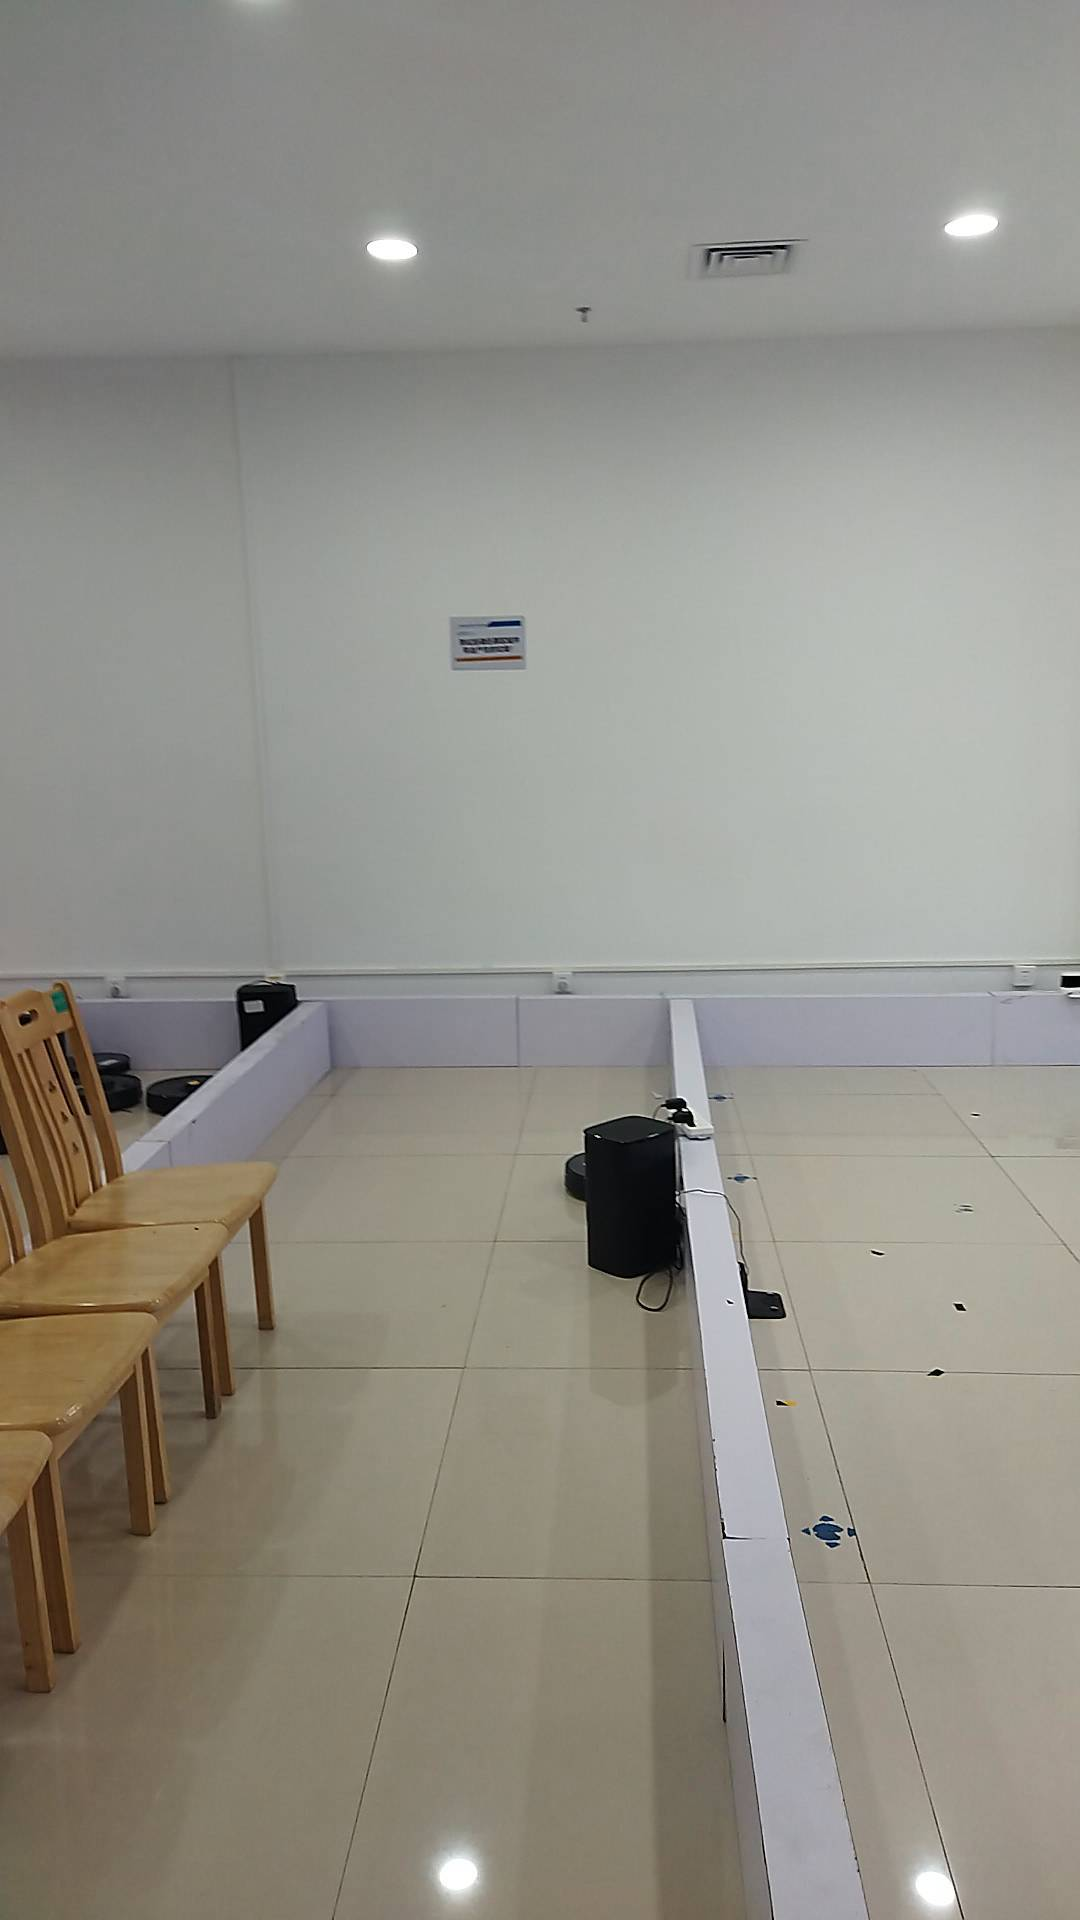dust collecting barrel: (585, 1118, 686, 1279), (233, 984, 298, 1044)
recharge seat: (731, 1259, 793, 1317)
